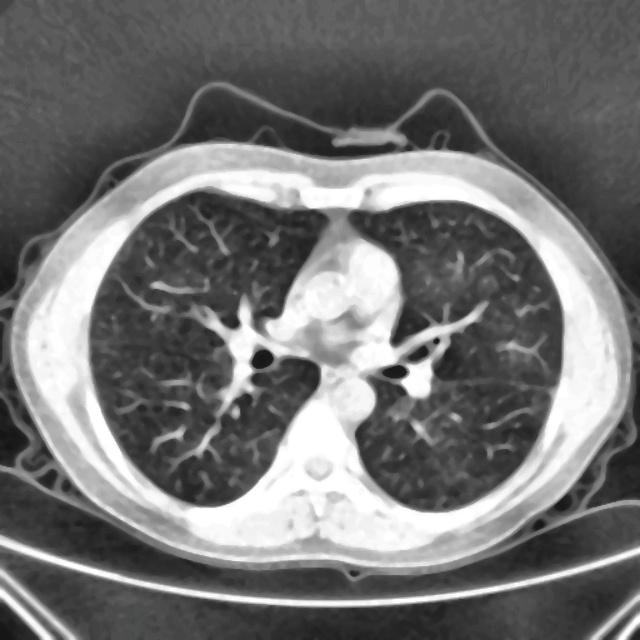covid: (3, 83, 637, 581)
